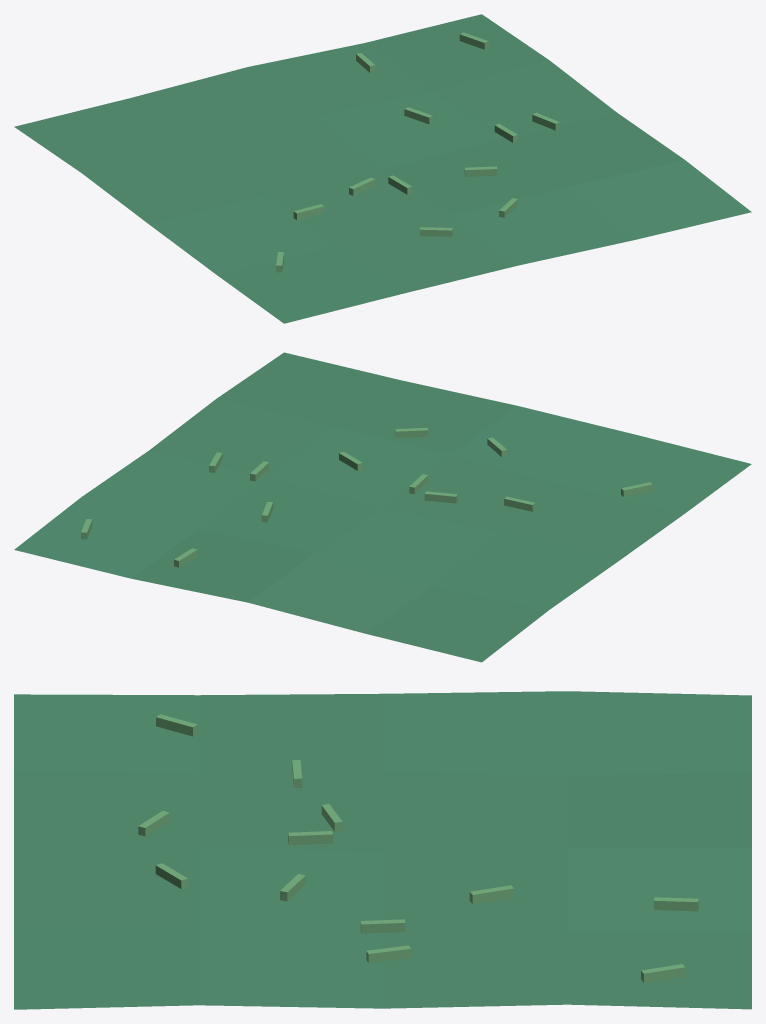
File: terrain-grass-tile.low.glb
3 views of the same model, one above another, from view 1: azimuth 30°, elevation 25°; view 2: azimuth 150°, elevation 25°; view 3: azimuth 270°, elevation 25° (orthographic). The views are drawn at different scales.
Visible parts, largest first — view 1: terrain_grass_tile_base; view 2: terrain_grass_tile_base; view 3: terrain_grass_tile_base, terrain_grass_blade_11, terrain_grass_blade_09, terrain_grass_blade_00, terrain_grass_blade_07, terrain_grass_blade_06, terrain_grass_blade_01, terrain_grass_blade_04.
Part boxes in pixels (left/top/right/bottom): terrain_grass_tile_base: left=14, top=14, right=751, bottom=323; terrain_grass_tile_base: left=14, top=352, right=751, bottom=662; terrain_grass_tile_base: left=14, top=691, right=751, bottom=1009; terrain_grass_blade_11: left=360, top=919, right=405, bottom=933; terrain_grass_blade_09: left=469, top=885, right=514, bottom=903; terrain_grass_blade_00: left=366, top=945, right=410, bottom=963; terrain_grass_blade_07: left=654, top=897, right=698, bottom=911; terrain_grass_blade_06: left=288, top=831, right=332, bottom=845; terrain_grass_blade_01: left=641, top=964, right=685, bottom=982; terrain_grass_blade_04: left=156, top=714, right=197, bottom=736.
Bounding box in the file's own units: 4 × 0.0845 × 4.
